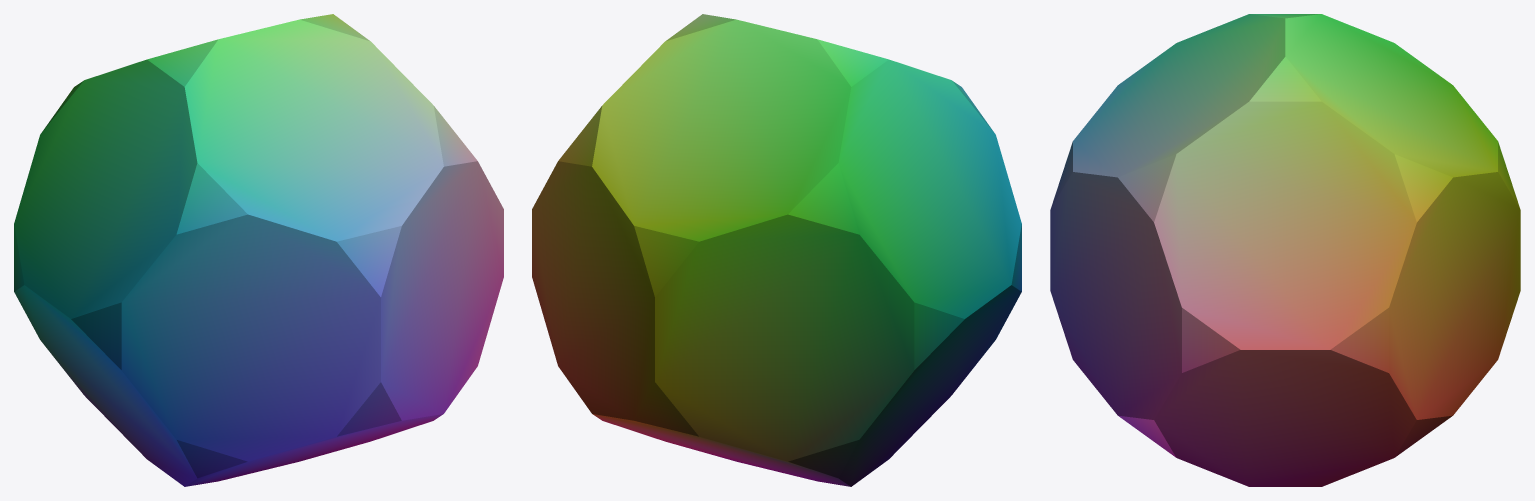
The model's file is zeometry-polyhedra-truncated-dodecahedron_v1.glb.
The picture shows the model from 3 angles, left to right: view 1: azimuth 30°, elevation 25°; view 2: azimuth 150°, elevation 25°; view 3: azimuth 270°, elevation 25°; orthographic projection. The views are drawn at different scales.
Visible parts, largest first — view 1: Truncated Dodecahedron; view 2: Truncated Dodecahedron; view 3: Truncated Dodecahedron.
Boxes of the visible parts, x1=… form: Truncated Dodecahedron: x1=14, y1=14, x2=503, y2=486; Truncated Dodecahedron: x1=532, y1=14, x2=1021, y2=486; Truncated Dodecahedron: x1=1050, y1=14, x2=1520, y2=486.
Size of the model in its own units: 0.5 by 0.5 by 0.5.
